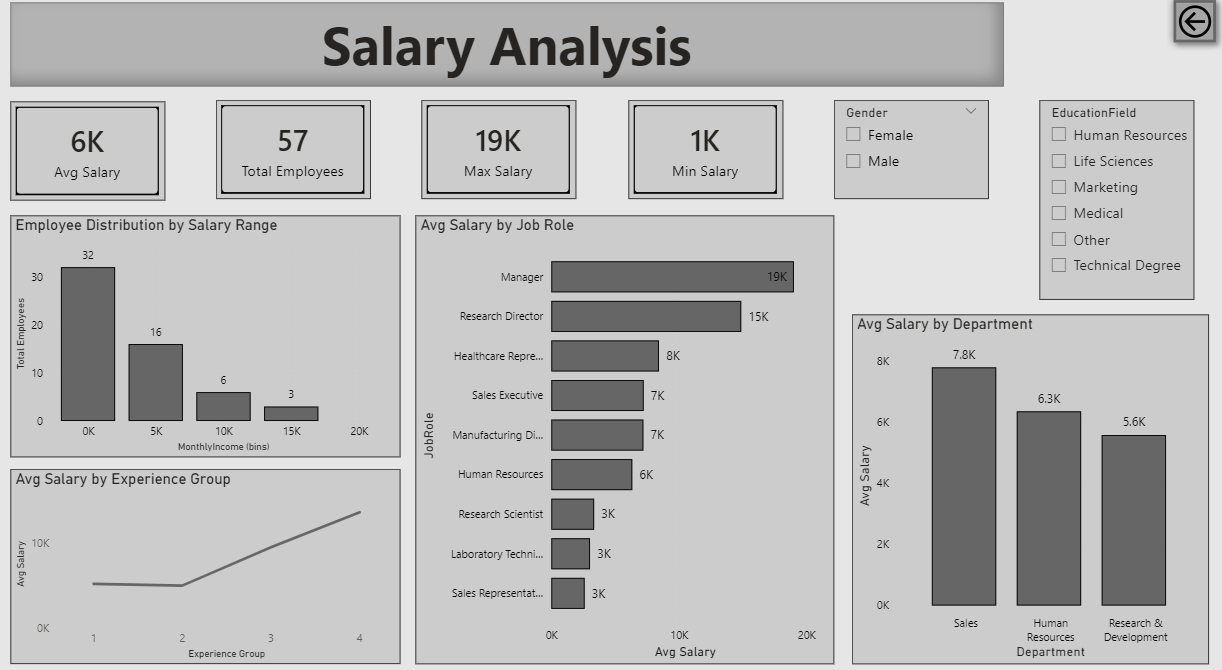

What the dashboard file says about the page in this screenshot:
{"tool":"powerbi","page":{"name":"Salary Analysis","canvas":[1366,768],"ordinal":2},"visuals":[{"type":"clusteredColumnChart","title":"Employee Distribution by Salary Range","fields":{"Category":["HR_Analysis.MonthlyIncome (bins)"],"Y":["HR_Analysis.Total Employees"]},"box":[18.3,248.4,433.5,268.4],"z":0},{"type":"clusteredBarChart","title":"Avg Salary by Job Role","fields":{"Category":["Dim_Job.JobRole"],"Y":["HR_Analysis.Avg Salary"]},"box":[468.5,248.4,465.1,498.5],"z":1000},{"type":"lineChart","fields":{"Category":["HR_Analysis.Experience Group"],"Y":["HR_Analysis.Avg Salary"]},"box":[18.3,530.2,433.5,216.7],"z":2000},{"type":"clusteredColumnChart","title":"Avg Salary by Department","fields":{"Category":["Dim_Job.Department"],"Y":["HR_Analysis.Avg Salary"]},"box":[953.6,358.4,396.8,388.5],"z":3000},{"type":"cardVisual","fields":{"Data":["HR_Analysis.Total Employees"]},"box":[247.1,120,171.7,110],"z":4000},{"type":"slicer","fields":{"Values":["Dim_Employee.EducationField"]},"box":[1162,120,171.7,221.7],"z":5000},{"type":"slicer","fields":{"Values":["Dim_Employee.Gender"]},"box":[933.3,120,171.7,110],"z":6000},{"type":"textbox","box":[18.3,11.7,1103.7,93.4],"z":7000},{"type":"actionButton","box":[1301.3,0,65,65],"z":8000},{"type":"cardVisual","fields":{"Data":["HR_Analysis.Avg Salary"]},"box":[18.3,121.7,171.7,110],"z":9000},{"type":"cardVisual","fields":{"Data":["HR_Analysis.Max Salary"]},"box":[475.8,120,171.7,110],"z":10000},{"type":"cardVisual","fields":{"Data":["HR_Analysis.Min Salary"]},"box":[704.6,120,171.7,110],"z":11000}]}

Visuals, with their boxes in screenshot pixels (x1, y1, x2, y2), scaled from the page's 1366x768 canvas onto the 1222x670 screenshot:
"Employee Distribution by Salary Range" clusteredColumnChart: {"left": 16, "top": 217, "right": 404, "bottom": 451}
"Avg Salary by Job Role" clusteredBarChart: {"left": 419, "top": 217, "right": 835, "bottom": 652}
lineChart - HR_Analysis.Experience Group x HR_Analysis.Avg Salary: {"left": 16, "top": 463, "right": 404, "bottom": 652}
"Avg Salary by Department" clusteredColumnChart: {"left": 853, "top": 313, "right": 1208, "bottom": 652}
cardVisual - HR_Analysis.Total Employees: {"left": 221, "top": 105, "right": 375, "bottom": 201}
slicer - Dim_Employee.EducationField: {"left": 1040, "top": 105, "right": 1193, "bottom": 298}
slicer - Dim_Employee.Gender: {"left": 835, "top": 105, "right": 989, "bottom": 201}
textbox: {"left": 16, "top": 10, "right": 1004, "bottom": 92}
actionButton: {"left": 1164, "top": 0, "right": 1221, "bottom": 57}
cardVisual - HR_Analysis.Avg Salary: {"left": 16, "top": 106, "right": 170, "bottom": 202}
cardVisual - HR_Analysis.Max Salary: {"left": 426, "top": 105, "right": 579, "bottom": 201}
cardVisual - HR_Analysis.Min Salary: {"left": 630, "top": 105, "right": 784, "bottom": 201}
